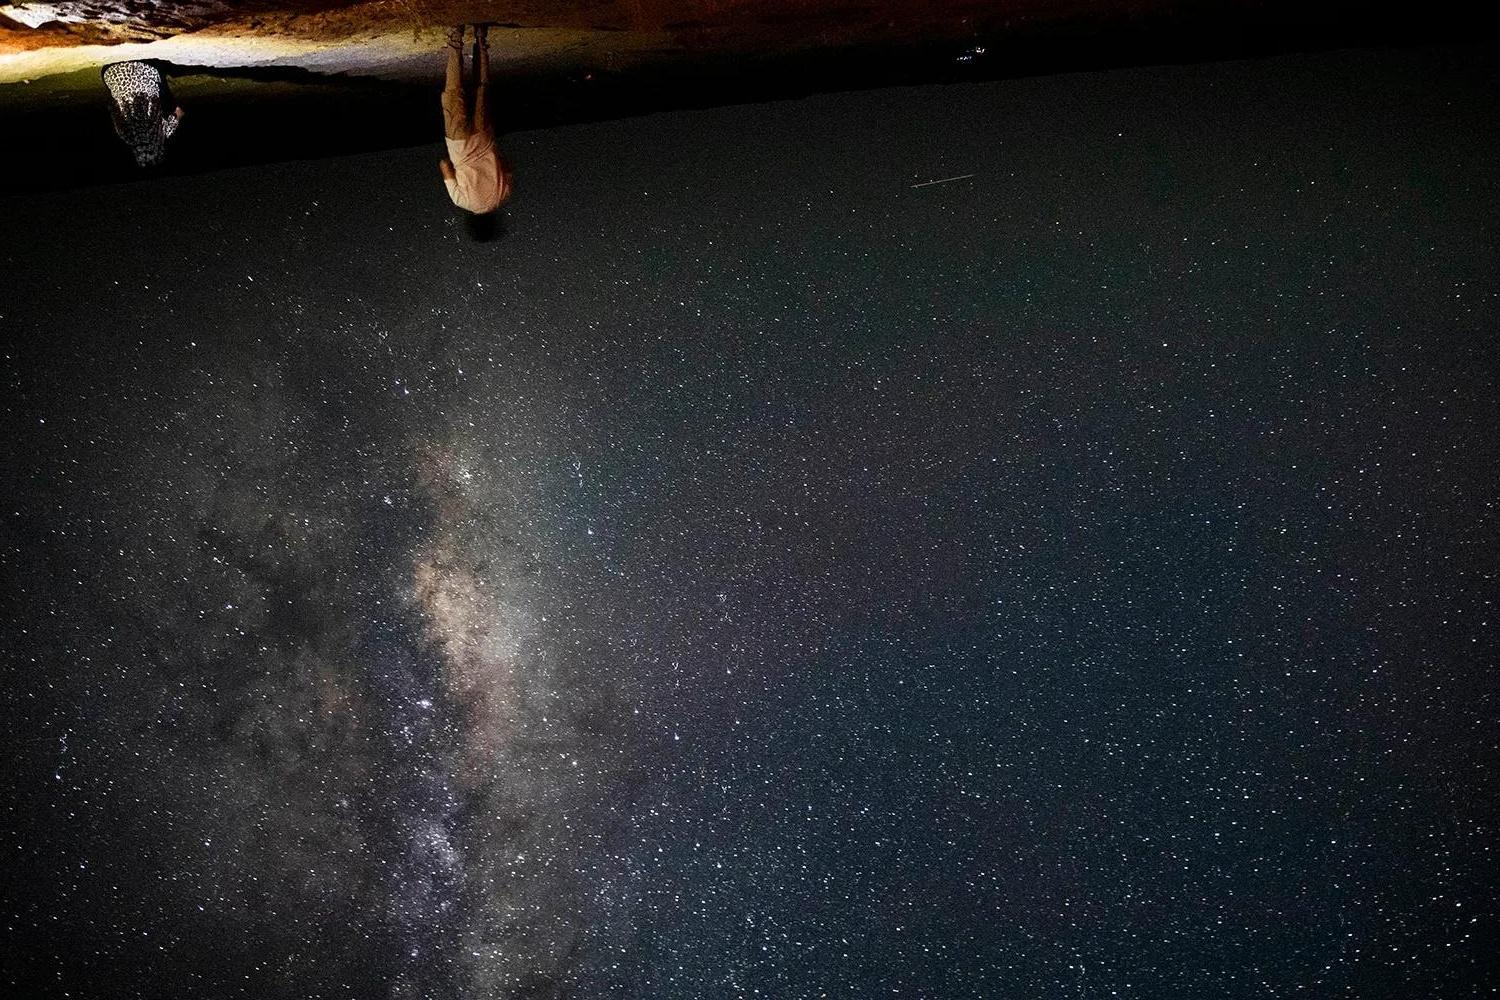meteorite: (893, 166, 993, 194)
